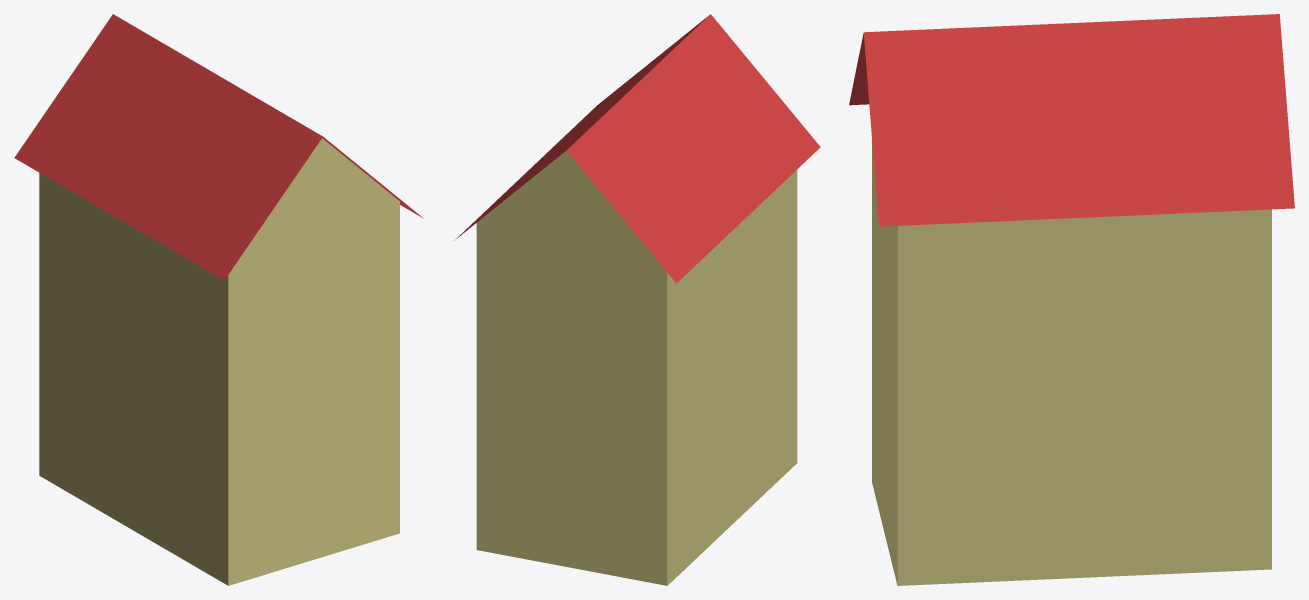
The picture shows the model from 3 angles, left to right: view 1: azimuth 30°, elevation 25°; view 2: azimuth 150°, elevation 25°; view 3: azimuth 270°, elevation 25°; orthographic projection. The views are drawn at different scales.
Bounding box in the file's own units: 3.96 × 5.35 × 6.64.
